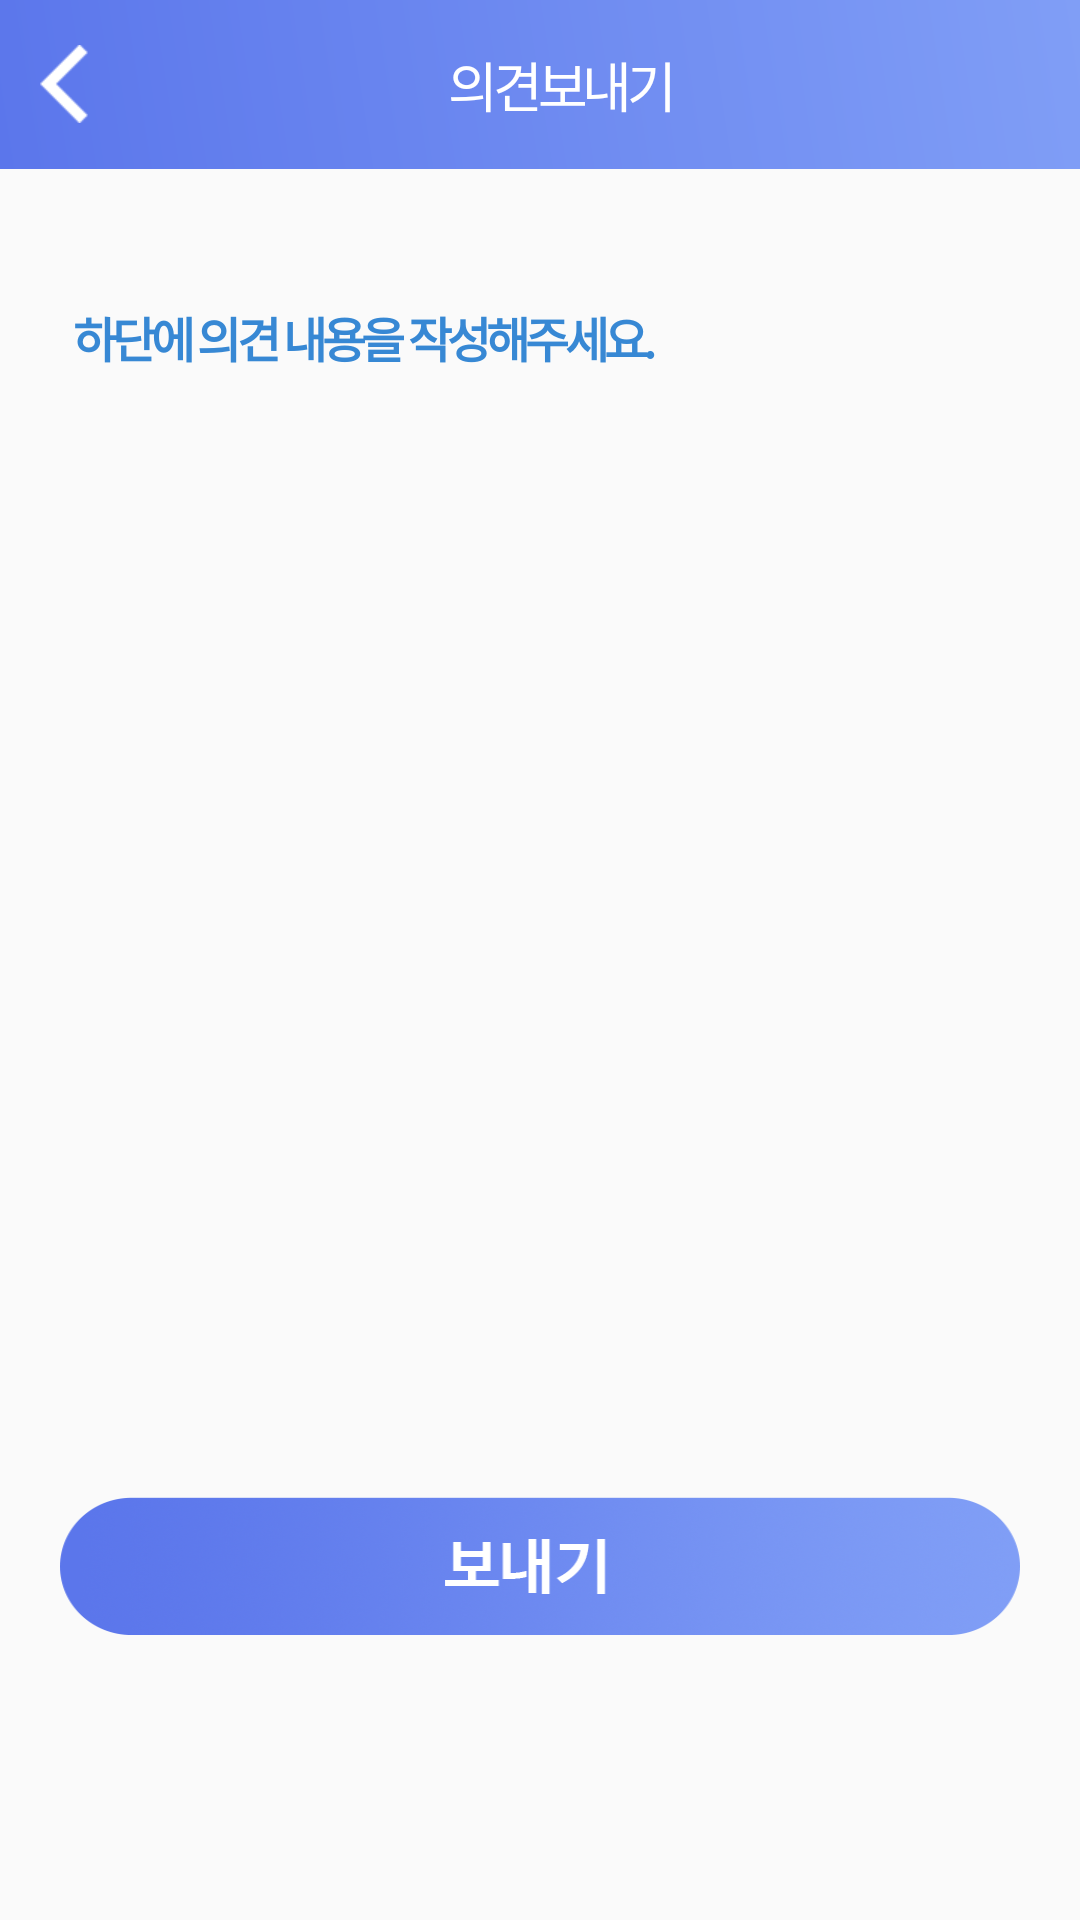

Named icons in this screenshot (1080w x 1920h) and their bounding boxes, (x1, y1, x2, y2):
pre: (40, 45, 88, 123)
